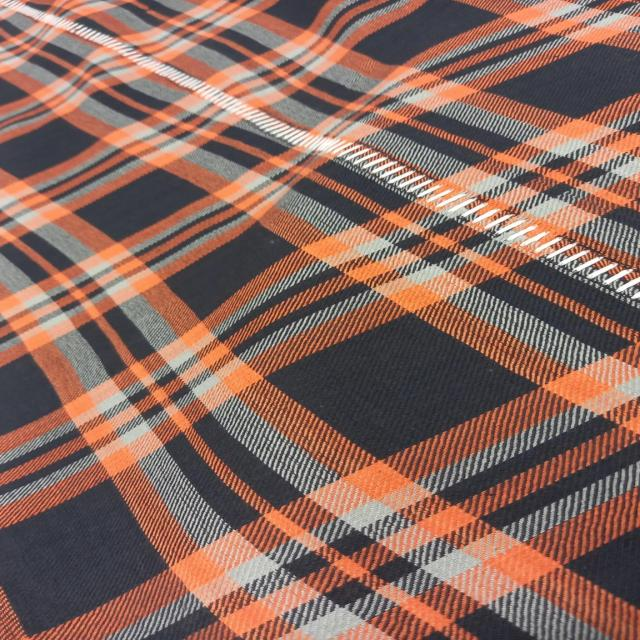gray stitch: (13, 5, 325, 158), (337, 145, 635, 297)
